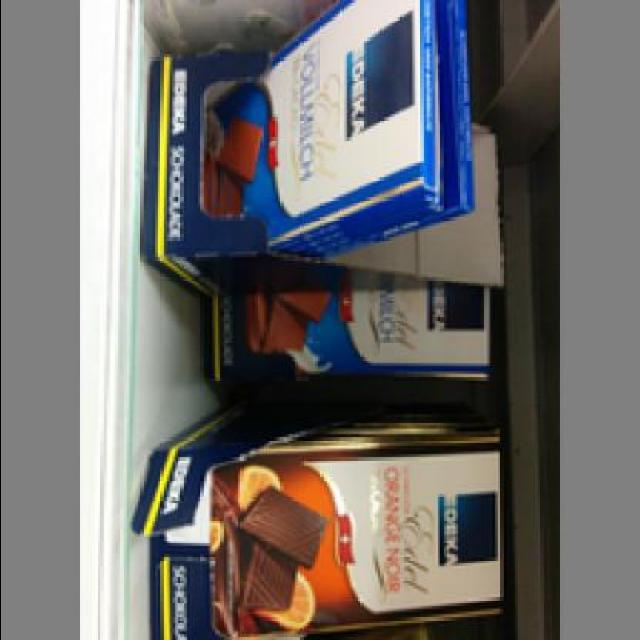Chocolate bar: (209, 429, 511, 637), (211, 2, 443, 250)
